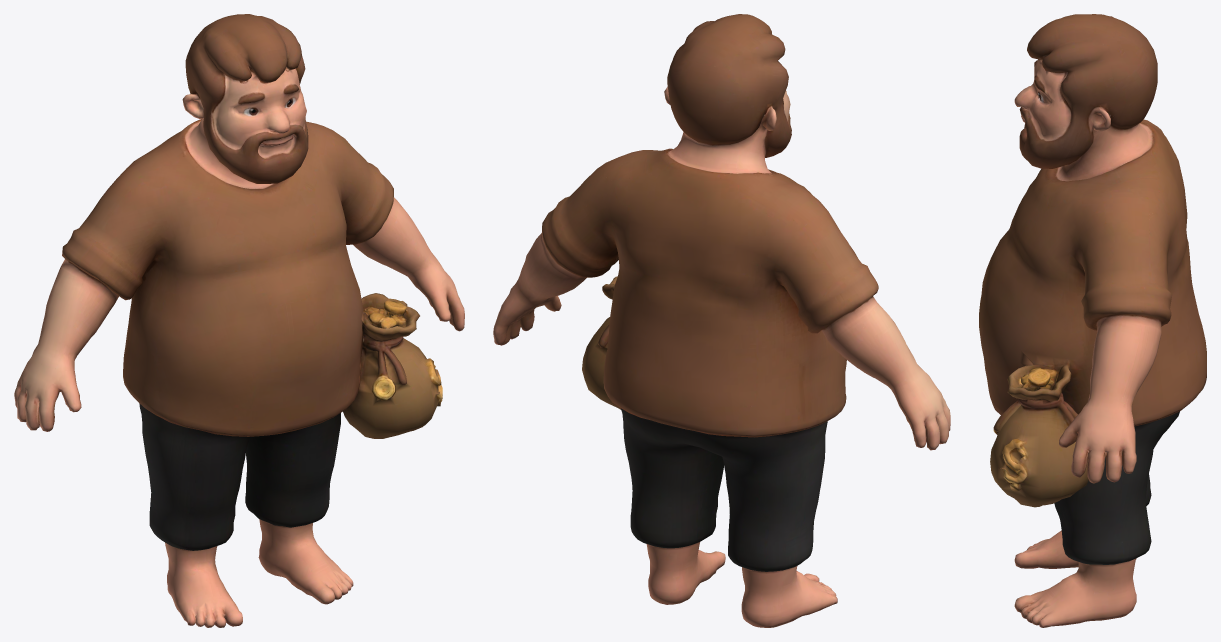
Rendered from lai-buon.d37c3a2c.glb.
3 views of the same model, side by side, from view 1: azimuth 30°, elevation 25°; view 2: azimuth 150°, elevation 25°; view 3: azimuth 270°, elevation 25° (orthographic).
Visible parts, largest first — view 1: tripo_node_ed28d5dd-401c-41cd-b8af-07f28e129c84; view 2: tripo_node_ed28d5dd-401c-41cd-b8af-07f28e129c84; view 3: tripo_node_ed28d5dd-401c-41cd-b8af-07f28e129c84.
Boxes of the visible parts, x1,y1,x2,y2 form: tripo_node_ed28d5dd-401c-41cd-b8af-07f28e129c84: (14,14,464,627); tripo_node_ed28d5dd-401c-41cd-b8af-07f28e129c84: (493,14,950,627); tripo_node_ed28d5dd-401c-41cd-b8af-07f28e129c84: (979,14,1206,627).
Bounding box in the file's own units: 0.7783 × 0.9772 × 0.3537.
Materials: 1 (1 with a texture image).
